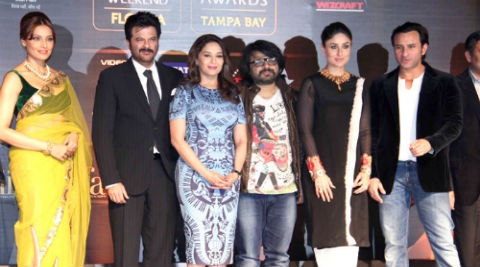bad: (385, 34, 421, 70), (125, 26, 161, 62)
